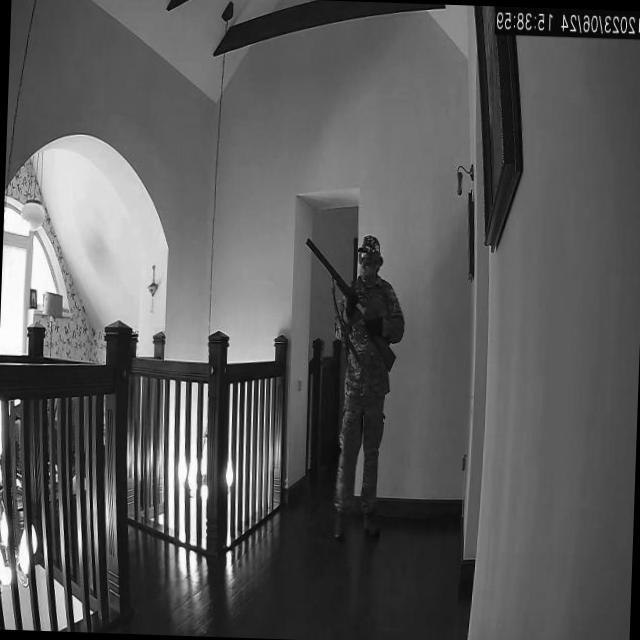gun: (299, 238, 400, 355)
person with a gun: (289, 231, 406, 540)
